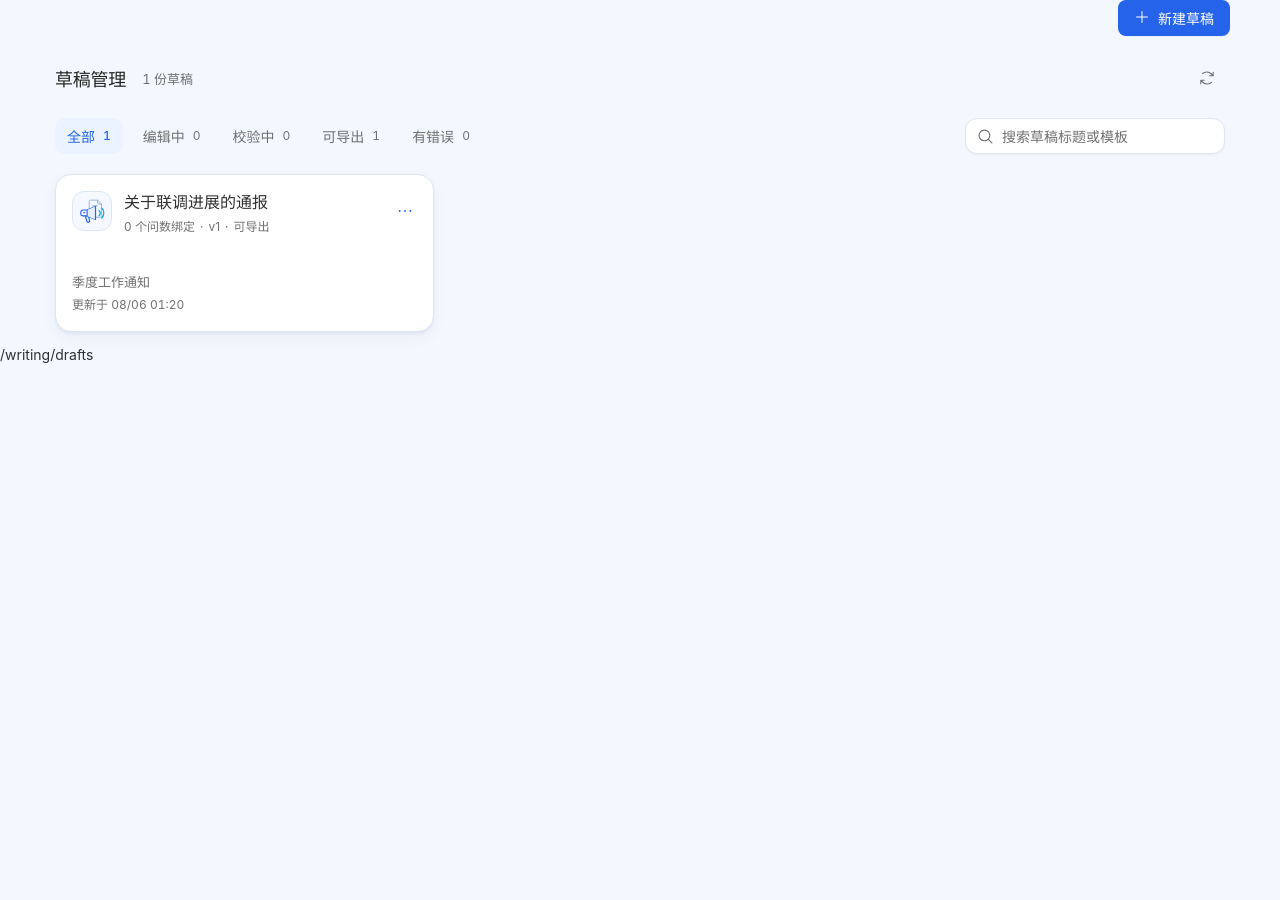
it: DraftLibraryView › confirms deletion and preserves the row after failure until a successful retry
Click the button named "管理草稿 关于联调进展的通报".
click(405, 211)  # box [387,193,423,229]
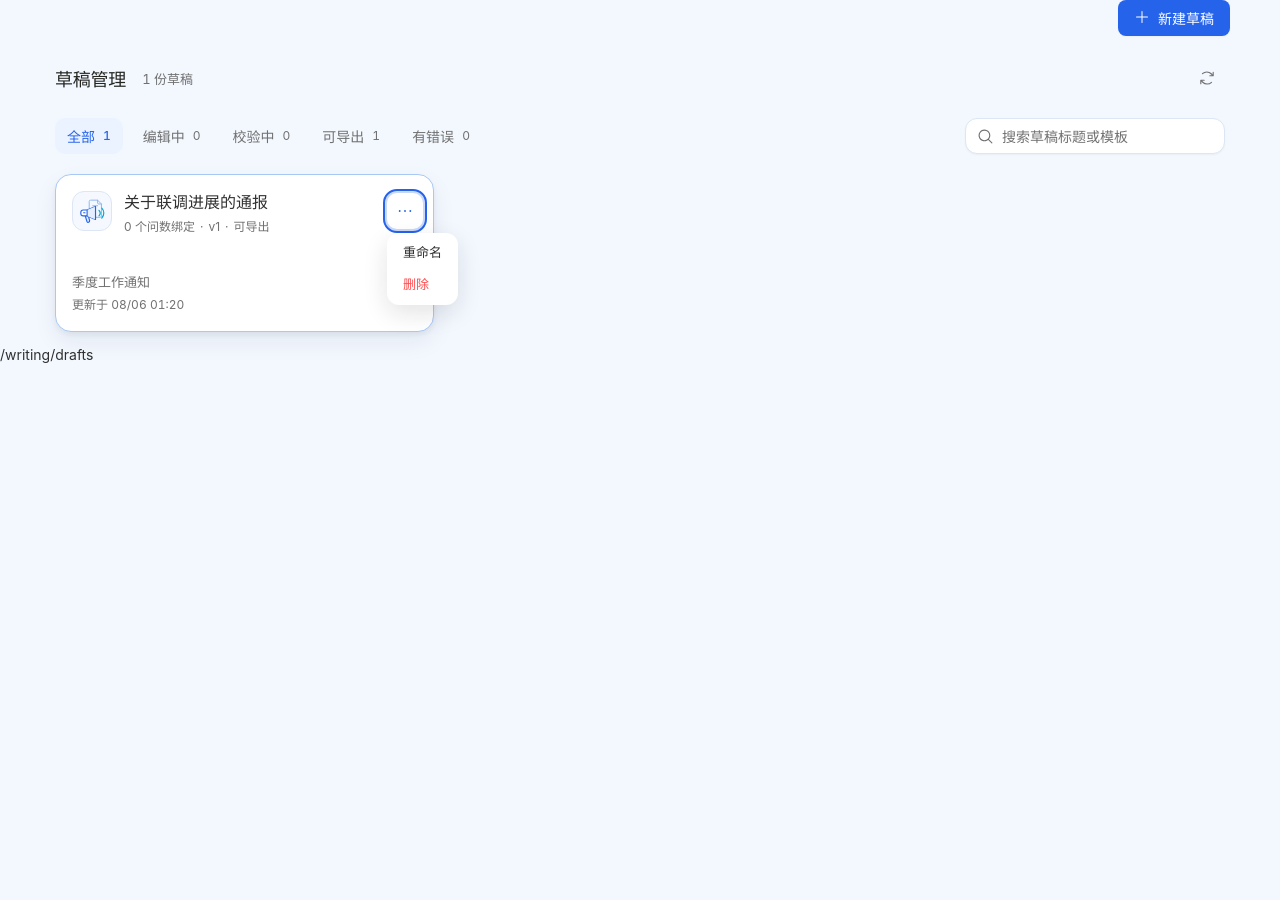
Click the menu item "删除".
click(416, 284)  # box [403,276,429,292]
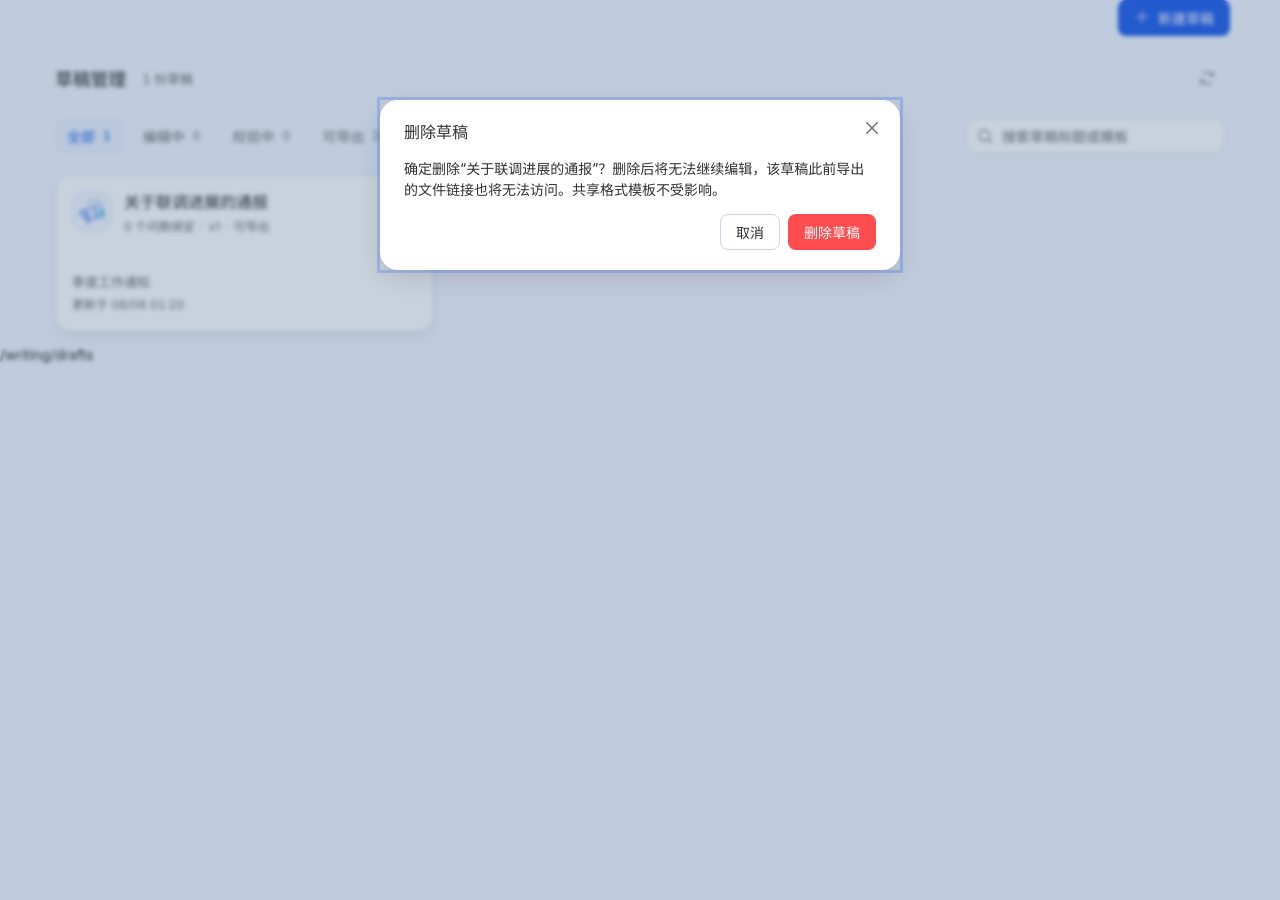
Check: the dialog shows "关于联调进展的通报", box [466,160,592,177]
Check: the dialog shows "导出的文件链接也将无法访问", box [404,160,864,198]
Click the button "删除草稿".
click(832, 232)  # box [788,214,876,250]
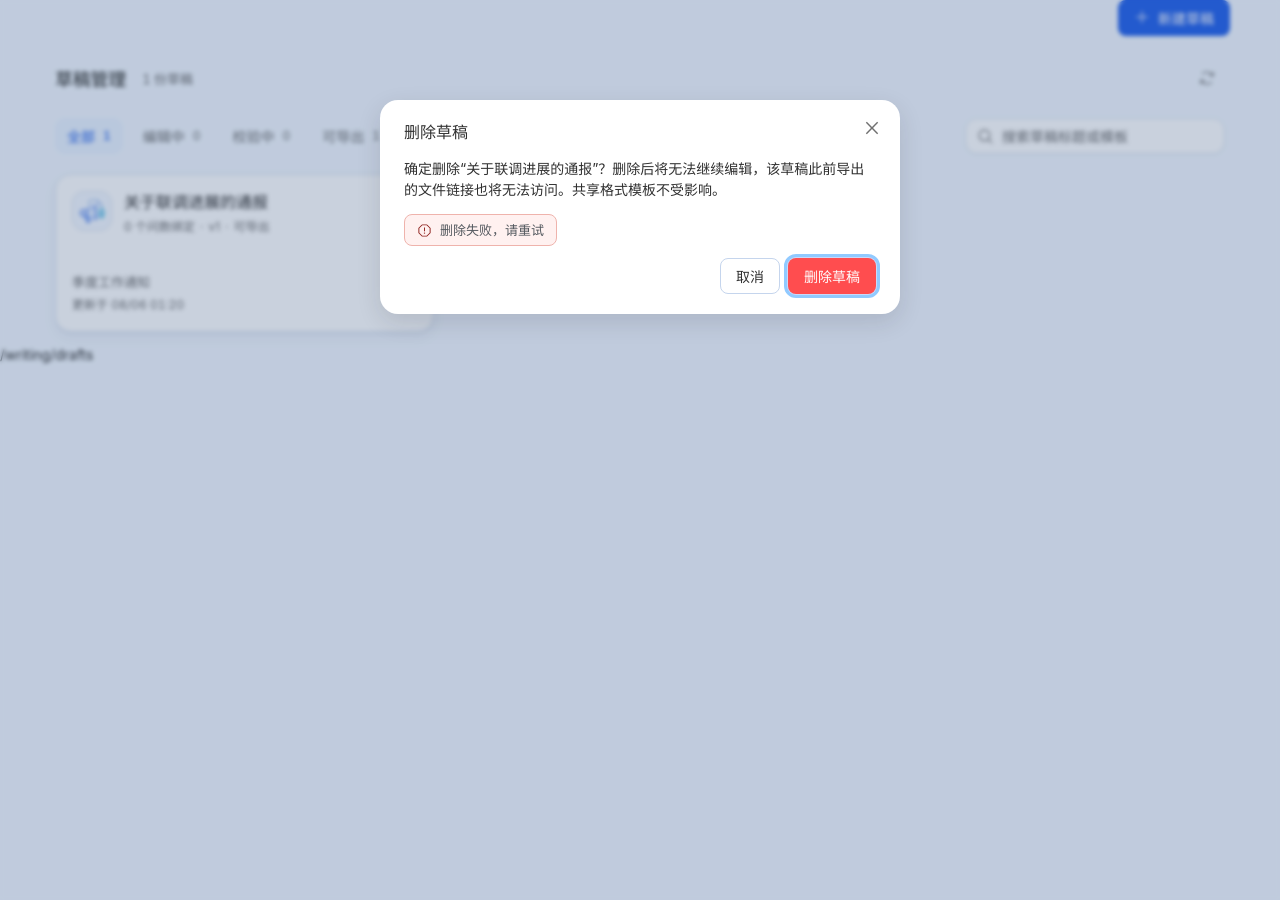
Check: the button with aria-label "打开草稿 关于联调进展的通报" is shown, box [56,175,433,331]
Check: the text "删除失败，请重试" is shown, box [440,221,544,239]
Click the button "删除草稿".
click(832, 276)  # box [788,258,876,294]
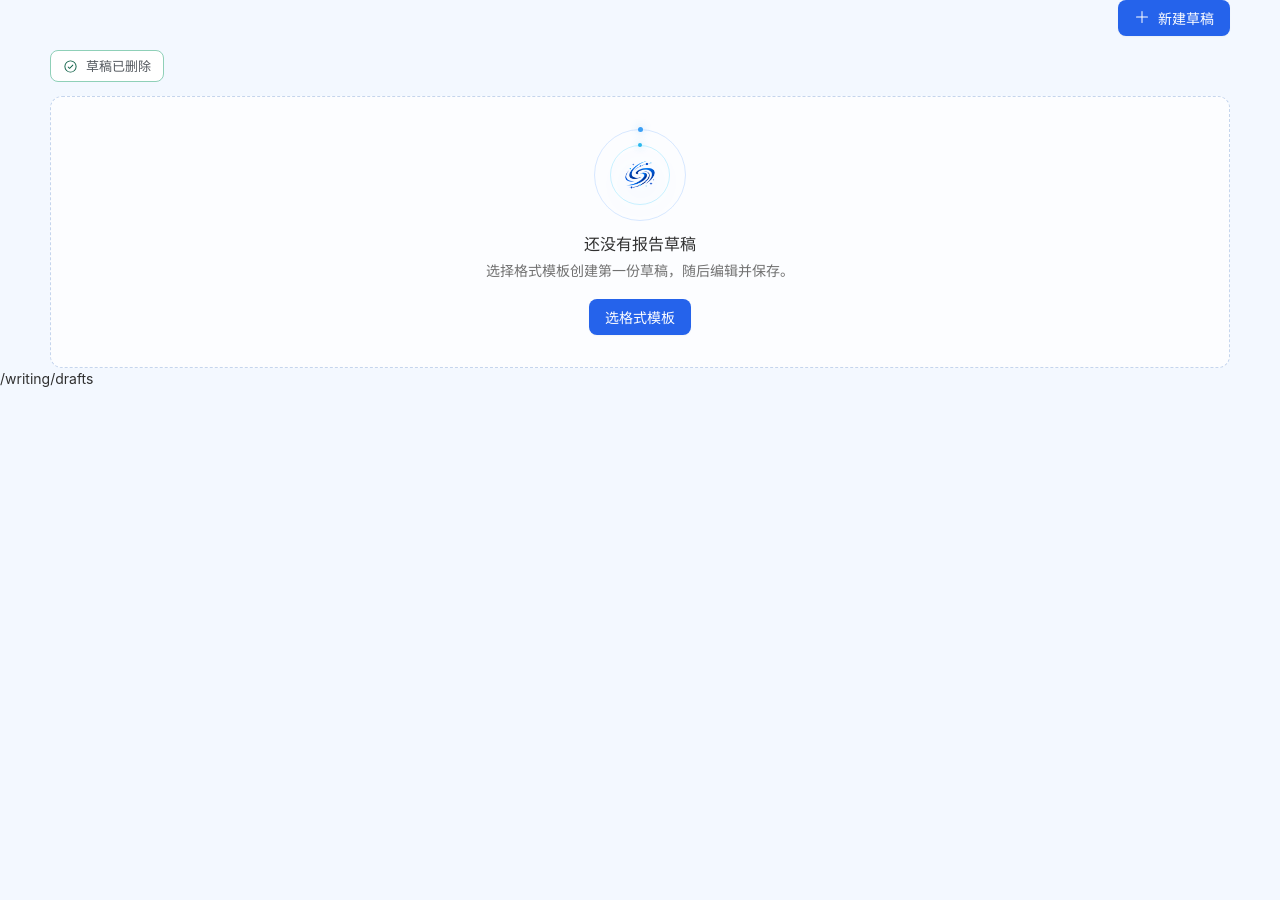
Check: the text "打开草稿 关于联调进展的通报" is gone
Check: the heading "还没有报告草稿" is shown, box [584,234,696,254]
